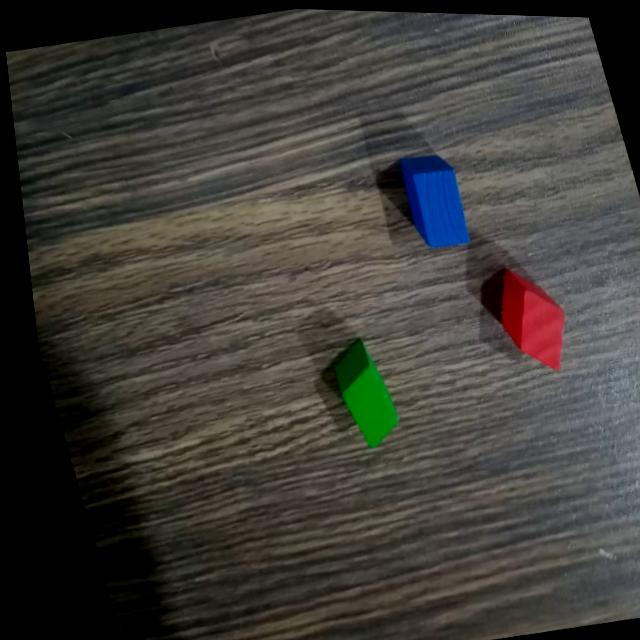cube: (476, 251, 574, 378), (314, 329, 399, 454), (386, 141, 476, 257)
